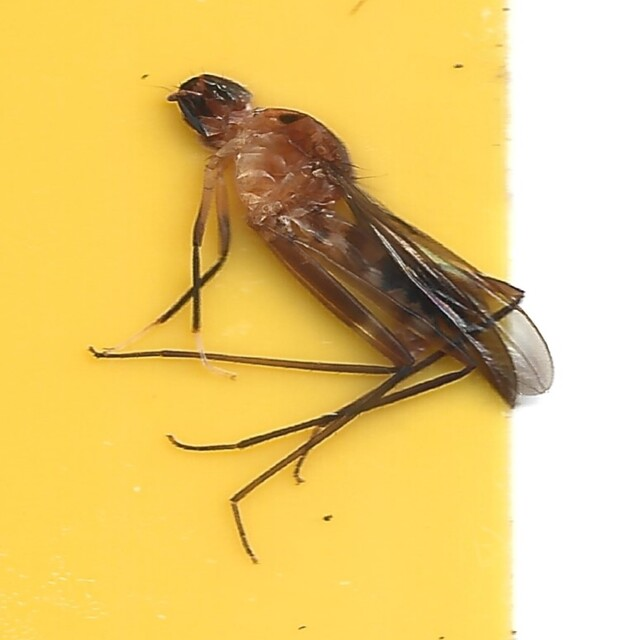Brachycera: (83, 69, 557, 571)
